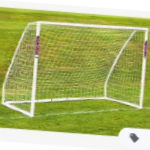goals: (1, 20, 150, 119)
